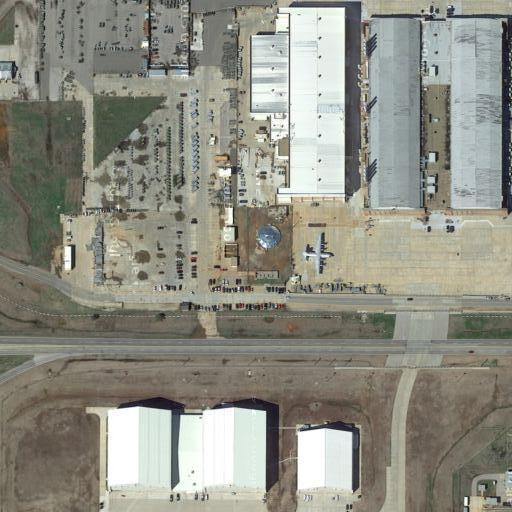C-130: (300, 229, 337, 280)
